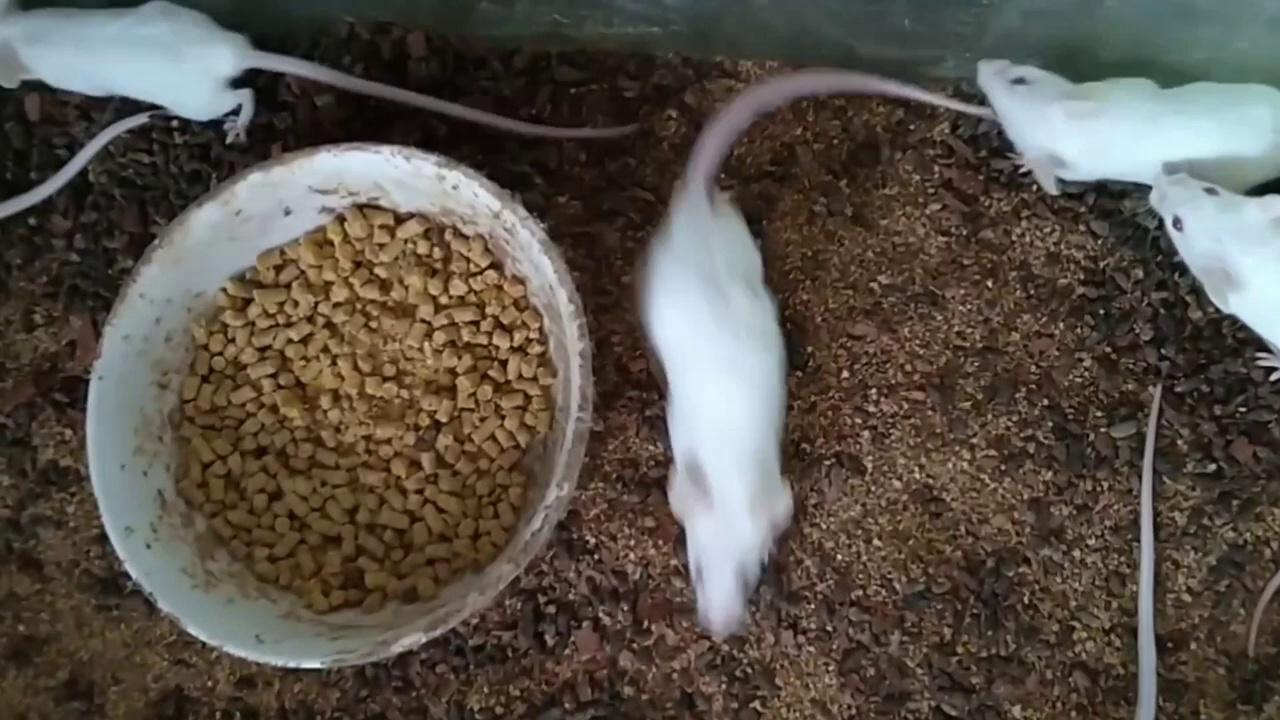rat: (638, 190, 797, 647), (976, 57, 1280, 195), (0, 0, 254, 144), (1150, 172, 1280, 381)
